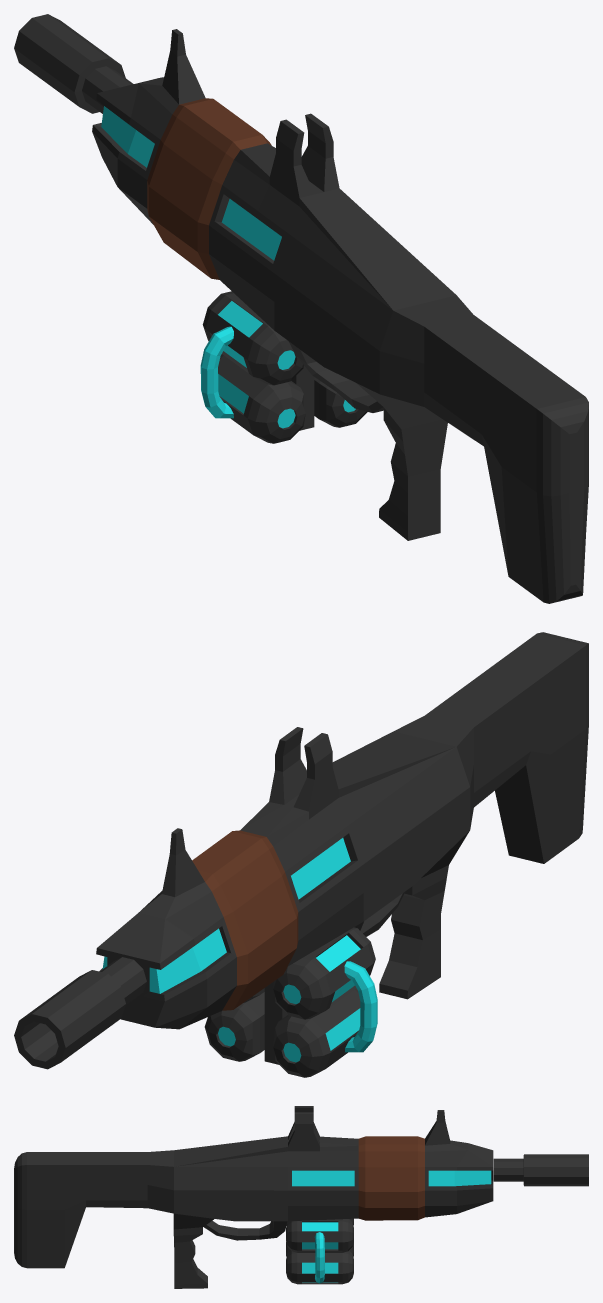
The model's file is Rifle (1).fbx.
3 views of the same model, one above another, from view 1: azimuth 30°, elevation 25°; view 2: azimuth 150°, elevation 25°; view 3: azimuth 270°, elevation 25° (orthographic). The views are drawn at different scales.
Visible parts, largest first — view 1: Body, MagazinCapsule_L; view 2: Body, MagazinCapsule_L; view 3: Body, MagazinCapsule_L.
Boxes of the visible parts, x1,y1,x2,y2 form: Body: (14,14,588,603); MagazinCapsule_L: (200,291,367,443); Body: (14,632,588,1069); MagazinCapsule_L: (204,927,377,1077); Body: (14,1106,588,1288); MagazinCapsule_L: (286,1218,353,1284).
Size of the model in its own units: 25.03 by 134 by 45.07.
